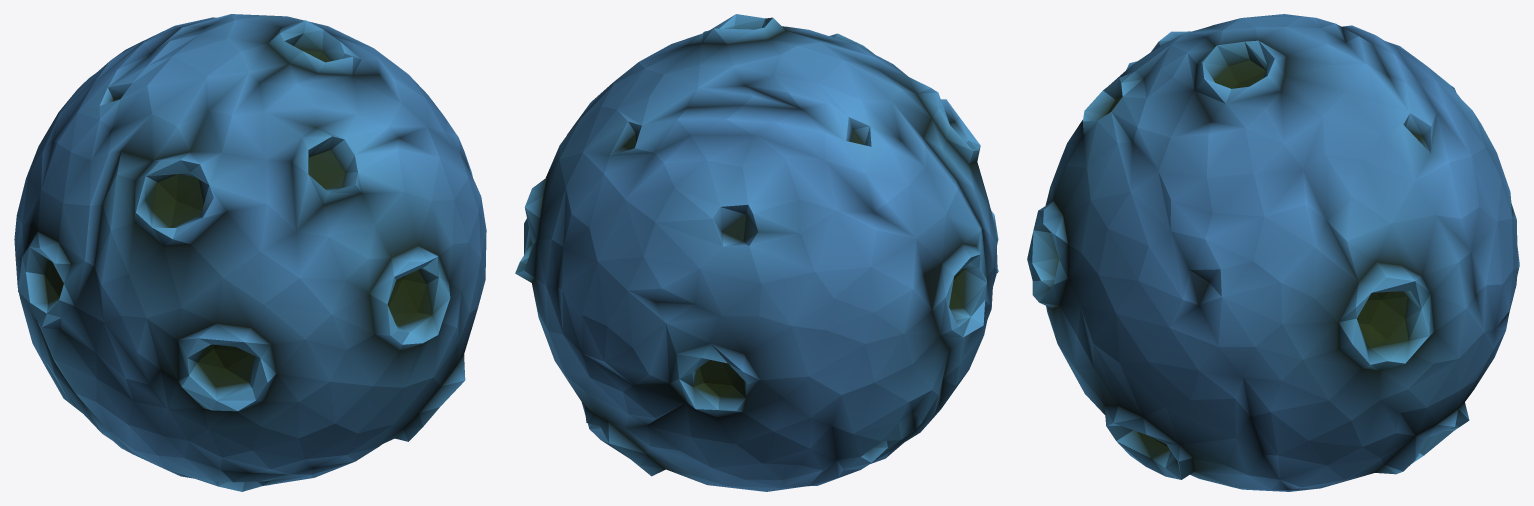
Rendered from moon8.fbx.
The picture shows the model from 3 angles, left to right: view 1: azimuth 30°, elevation 25°; view 2: azimuth 150°, elevation 25°; view 3: azimuth 270°, elevation 25°; orthographic projection. The views are drawn at different scales.
Visible parts, largest first — view 1: attribblur1; view 2: attribblur1; view 3: attribblur1.
Boxes of the visible parts, box(x1,y1,x2,y2) form: attribblur1: box(14, 14, 486, 491); attribblur1: box(515, 14, 998, 491); attribblur1: box(1027, 14, 1519, 491).
Size of the model in its own units: 0.9205 by 0.9002 by 0.9174.
